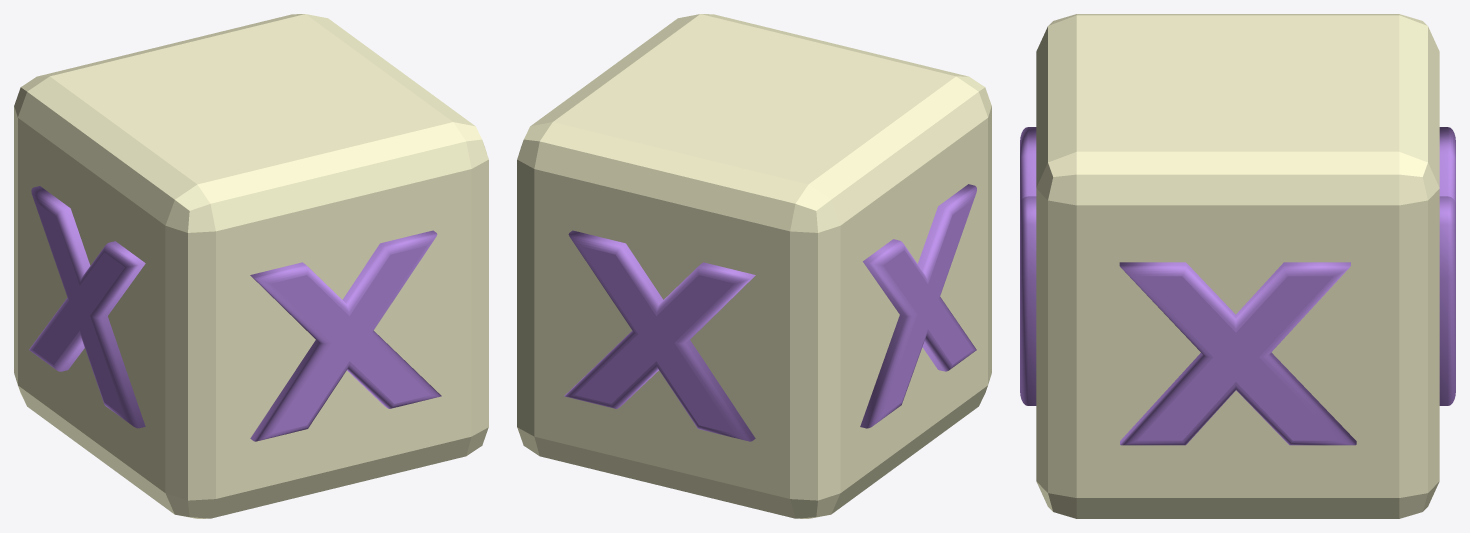
The model's file is multiplication.fbx.
3 views of the same model, side by side, from view 1: azimuth 30°, elevation 25°; view 2: azimuth 150°, elevation 25°; view 3: azimuth 270°, elevation 25° (orthographic). The views are drawn at different scales.
Parts seen in each view (by area): view 1: x; view 2: x; view 3: x.
Part boxes in pixels (x1,y1,x2,y2): x: [14, 14, 488, 518]; x: [517, 14, 991, 518]; x: [1020, 14, 1455, 518].
Size of the model in its own units: 216 by 200 by 216.
